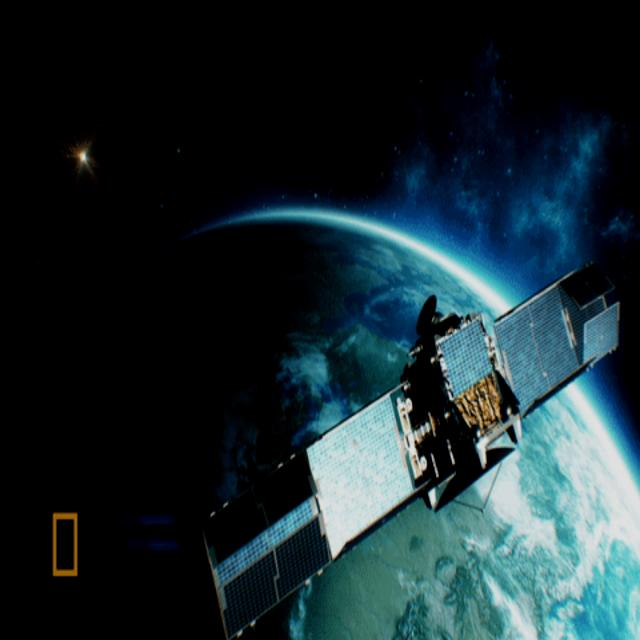satellite: (197, 254, 620, 640)
